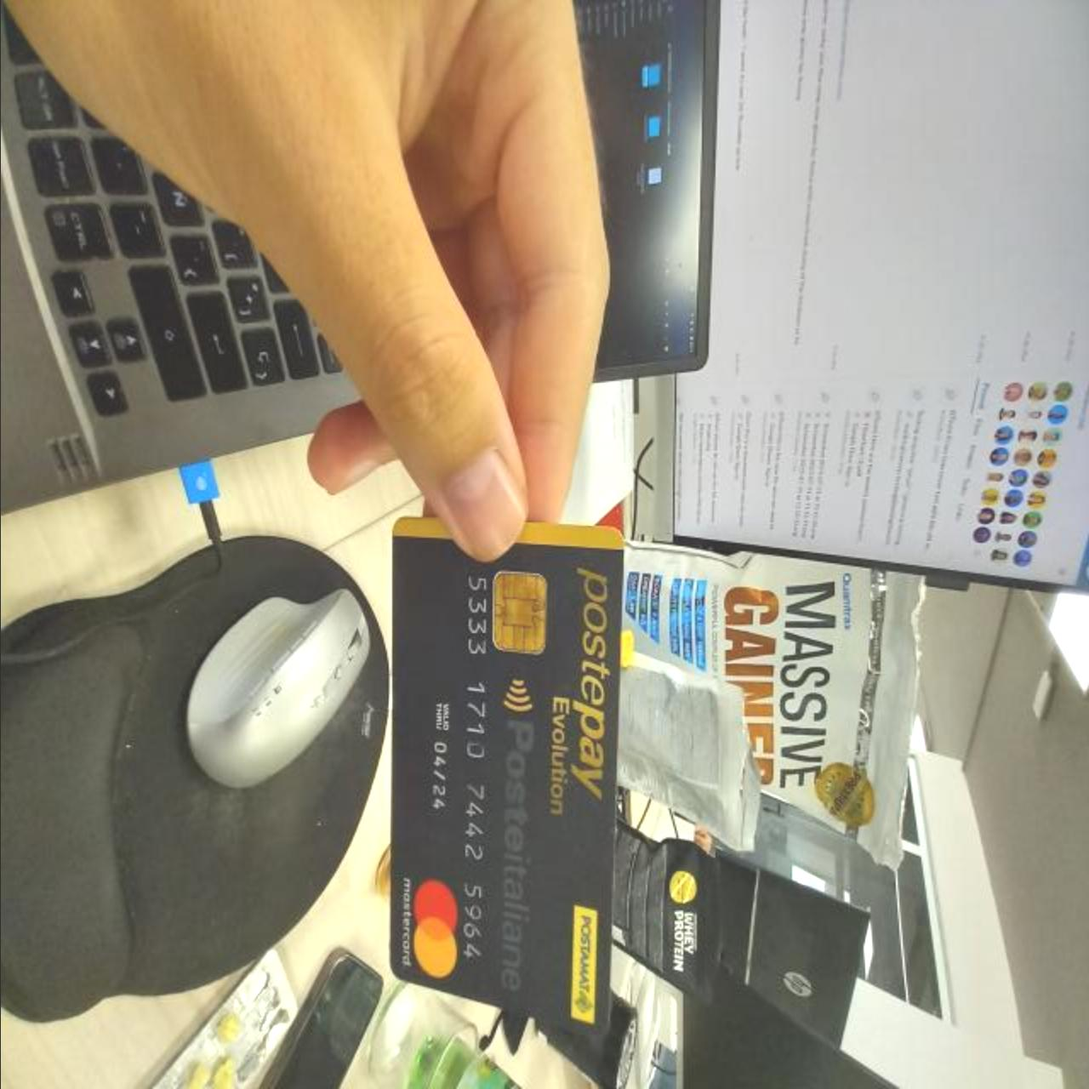credit_card: (381, 524, 626, 1028)
